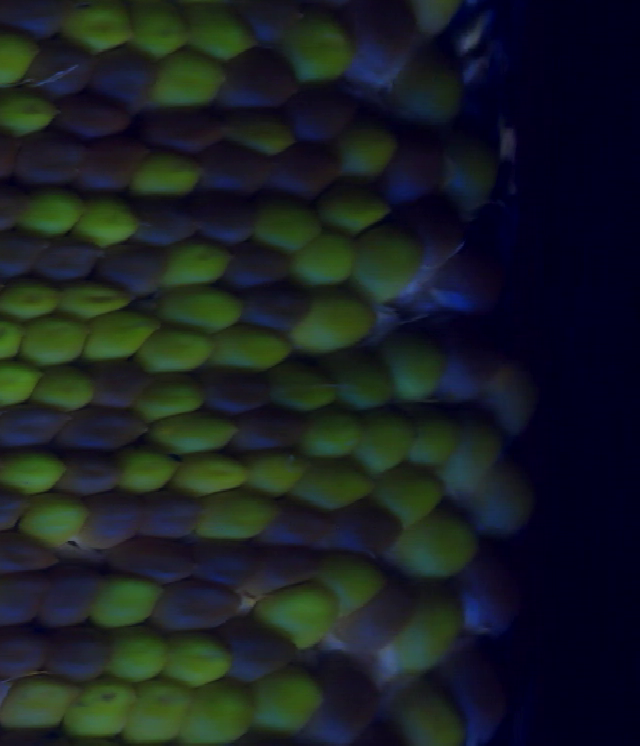fluorescent: (253, 577, 336, 645), (355, 229, 421, 313), (394, 595, 463, 668), (398, 51, 462, 129), (389, 319, 446, 405), (395, 514, 473, 575), (388, 689, 470, 746), (449, 134, 503, 212), (0, 680, 79, 733), (253, 670, 325, 728), (120, 682, 190, 740), (297, 290, 372, 344), (90, 575, 162, 629), (339, 119, 400, 182), (474, 471, 530, 539), (190, 682, 252, 743), (374, 468, 442, 523), (65, 679, 128, 738), (492, 364, 544, 434), (321, 556, 384, 613), (150, 58, 223, 107), (183, 9, 251, 61), (332, 354, 390, 414), (300, 463, 382, 505), (273, 351, 335, 406), (202, 492, 273, 539), (21, 498, 89, 547), (152, 293, 244, 329), (62, 2, 134, 48), (442, 429, 495, 491), (325, 181, 388, 233), (358, 417, 410, 480), (294, 30, 357, 82), (167, 635, 230, 686), (51, 285, 149, 317), (151, 418, 236, 454), (258, 203, 323, 248), (302, 234, 356, 287), (129, 6, 184, 58), (163, 244, 231, 286), (0, 453, 67, 493), (302, 411, 355, 461), (214, 328, 284, 365), (19, 322, 82, 363), (141, 334, 210, 371), (87, 314, 145, 358), (131, 159, 198, 197), (107, 637, 167, 679), (0, 93, 57, 135), (15, 195, 79, 232), (131, 445, 181, 489), (79, 202, 131, 244), (239, 116, 297, 153), (35, 370, 90, 409), (140, 379, 200, 413), (409, 422, 452, 468), (182, 461, 249, 490), (249, 458, 297, 496), (0, 285, 57, 317), (415, 1, 459, 39), (0, 360, 37, 403)
nonfluorescent: (310, 654, 382, 739), (345, 1, 415, 84), (219, 43, 297, 108), (455, 658, 511, 745), (437, 322, 487, 406), (161, 582, 252, 628), (474, 542, 518, 634), (198, 145, 269, 202), (223, 623, 295, 679), (335, 502, 405, 559), (355, 582, 409, 655), (77, 490, 145, 547), (92, 45, 160, 102), (445, 238, 497, 312), (62, 405, 146, 450), (108, 539, 195, 582), (269, 145, 337, 200), (262, 493, 334, 544), (44, 624, 109, 680), (244, 281, 314, 333), (389, 130, 442, 196), (221, 243, 293, 291), (62, 87, 134, 135), (24, 124, 81, 184), (52, 560, 105, 623), (228, 412, 305, 454), (258, 545, 325, 593), (99, 240, 168, 286), (192, 197, 258, 245), (137, 196, 199, 247), (26, 45, 88, 96), (293, 86, 346, 144), (86, 358, 151, 405), (198, 372, 271, 413), (193, 535, 261, 579), (409, 197, 457, 259), (53, 456, 124, 496), (145, 491, 204, 539), (0, 572, 50, 626), (0, 624, 44, 685), (145, 105, 215, 142), (0, 403, 63, 443), (46, 237, 103, 281), (90, 142, 139, 192), (0, 533, 52, 574), (10, 2, 67, 38), (0, 484, 34, 533), (0, 232, 40, 272)
